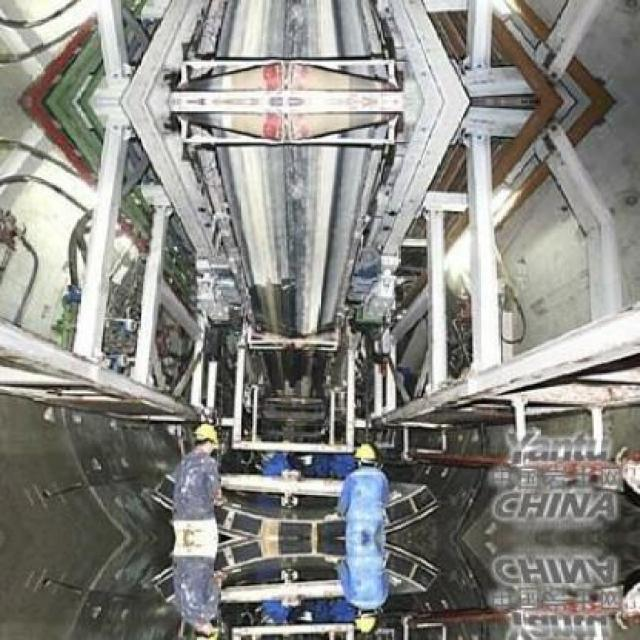helmet: (191, 420, 218, 454), (351, 442, 375, 468), (351, 606, 375, 632), (191, 620, 220, 637)
